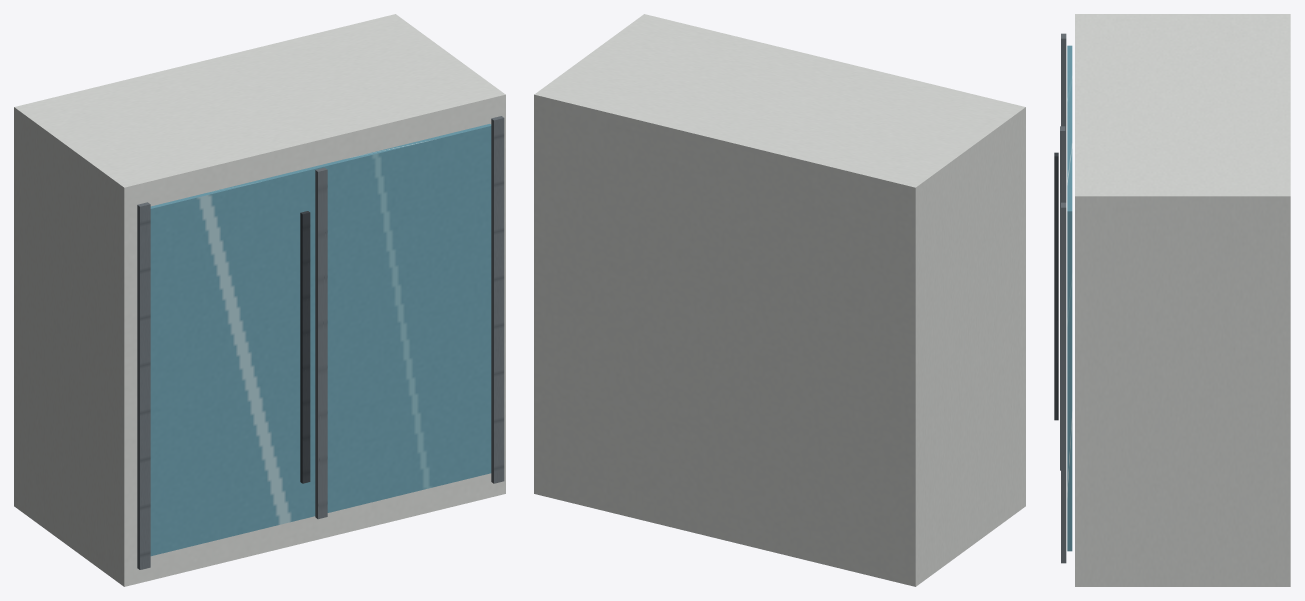
Rendered from Cooler_2x1.obj.
The picture shows the model from 3 angles, left to right: view 1: azimuth 30°, elevation 25°; view 2: azimuth 150°, elevation 25°; view 3: azimuth 270°, elevation 25°; orthographic projection. The views are drawn at different scales.
Parts seen in each view (by area): view 1: Cooler_2x1; view 2: Cooler_2x1; view 3: Cooler_2x1.
Part boxes in pixels (x1,y1,x2,y2): Cooler_2x1: (14, 14, 505, 586); Cooler_2x1: (534, 14, 1025, 586); Cooler_2x1: (1054, 14, 1290, 586).
Size of the model in its own units: 2 by 2 by 1.1.
4 materials, 4 textured.
